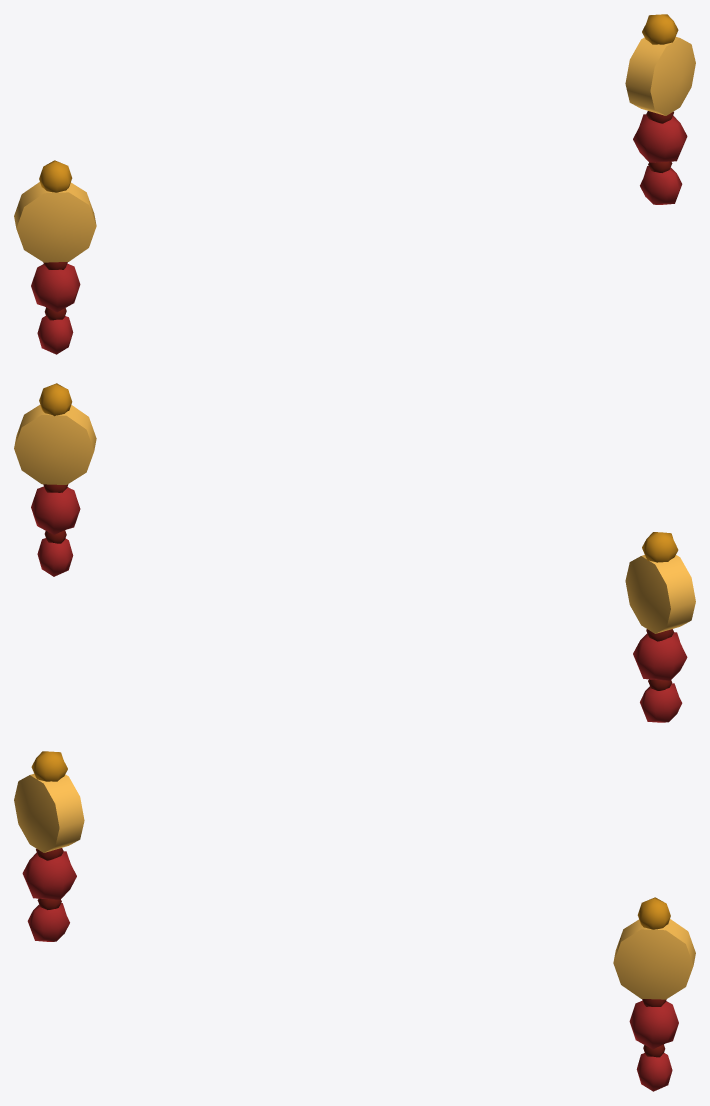
The model's file is Earring_21.fbx.
3 renders of one model, top to bottom at view 1: azimuth 30°, elevation 25°; view 2: azimuth 150°, elevation 25°; view 3: azimuth 330°, elevation 25°, orthographic.
Visible parts, largest first — view 1: Earring_21; view 2: Earring_21; view 3: Earring_21.
Boxes of the visible parts, x1,y1,x2,y2 form: Earring_21: [14, 14, 695, 354]; Earring_21: [14, 383, 695, 722]; Earring_21: [14, 751, 695, 1091].
Bounding box in the file's own units: 56.8 × 15.21 × 4.49.
